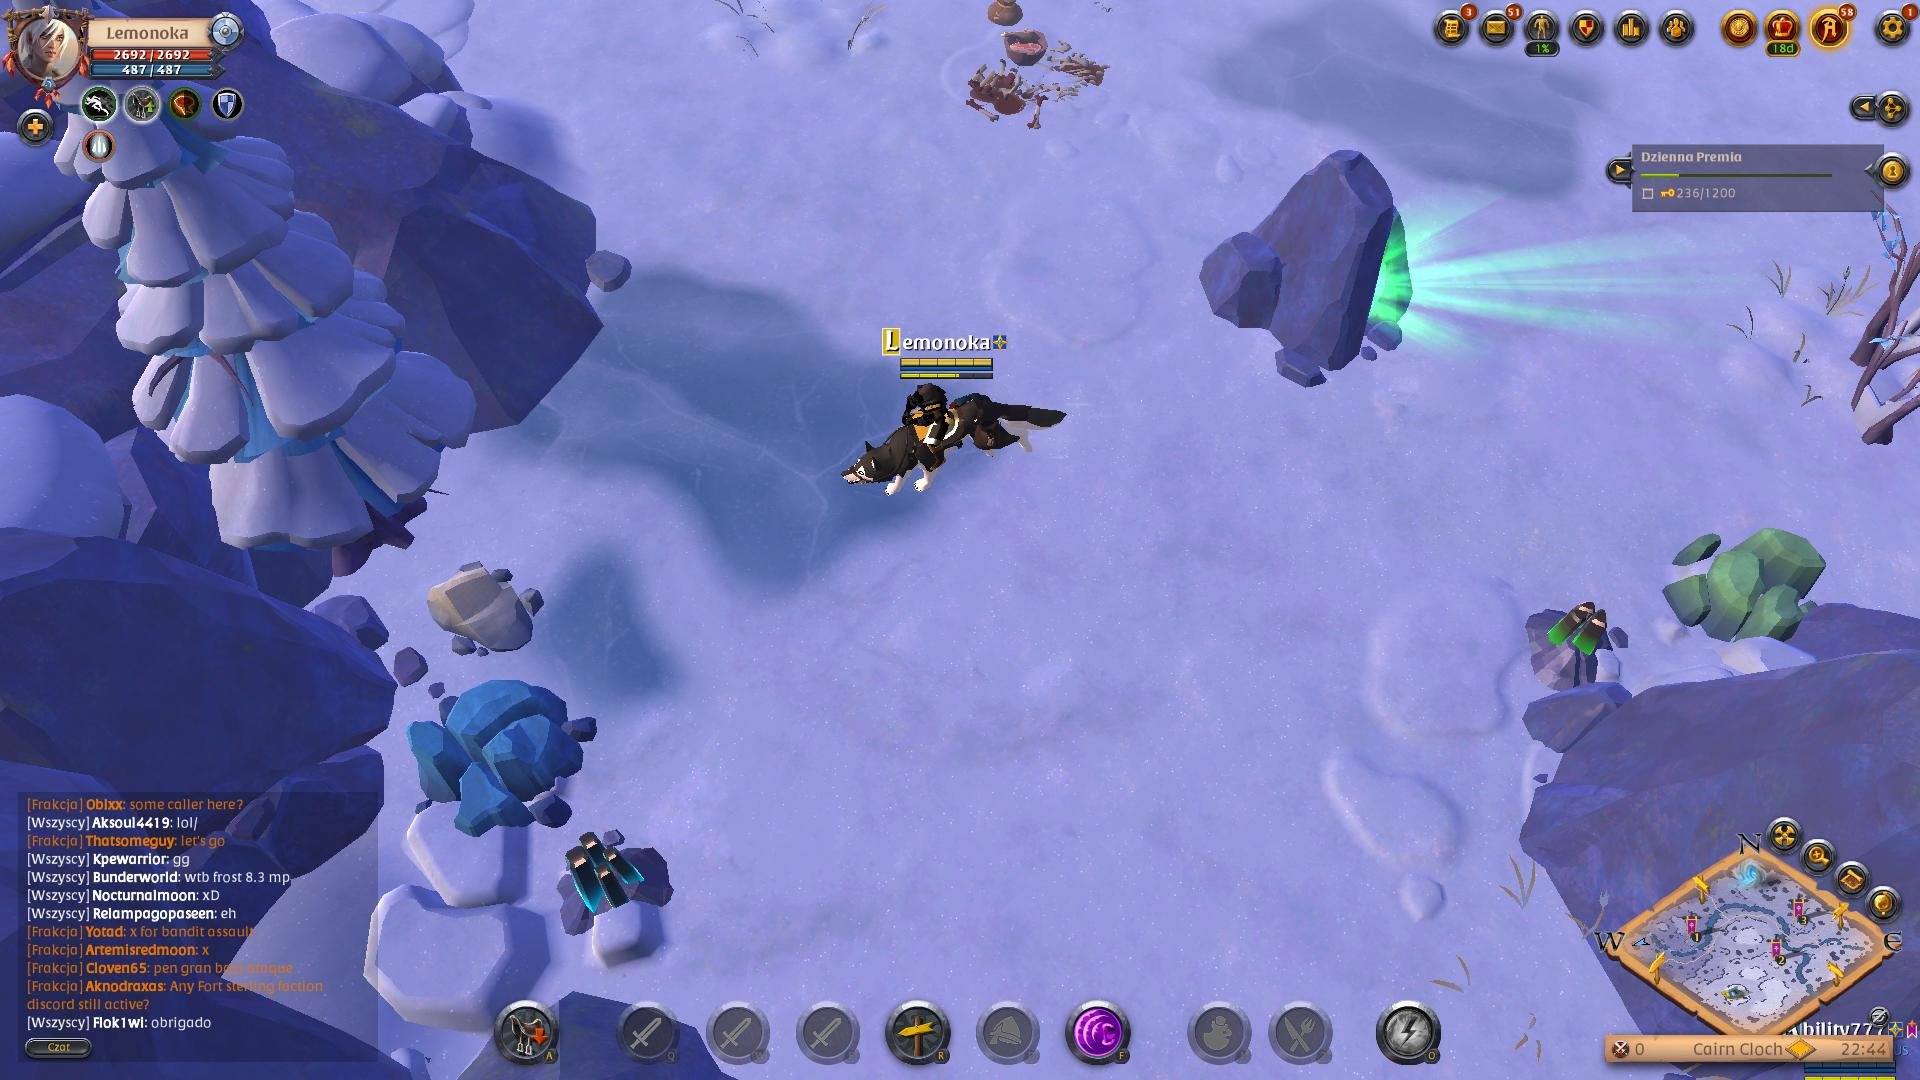ore tier 3: (1514, 588, 1626, 699)
ore tier 4: (554, 825, 676, 935)
rock tier 1: (422, 560, 549, 659)
rock tier 3: (1667, 510, 1820, 663)
rock tier 4: (402, 675, 595, 835)
